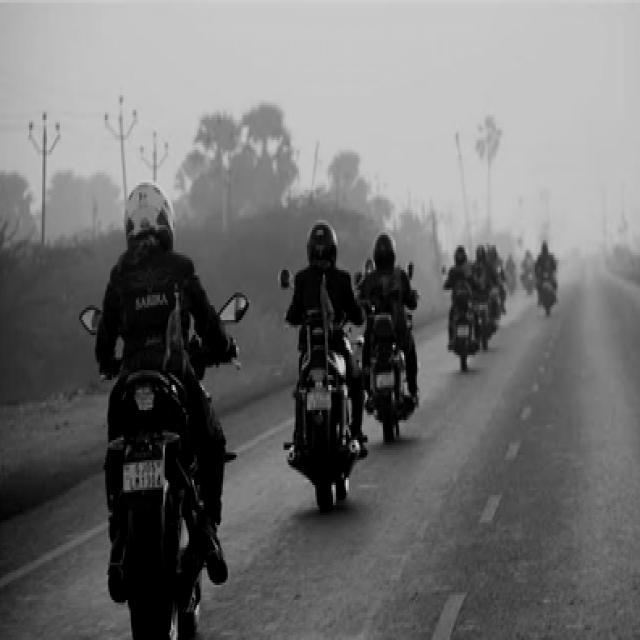Helmet: (116, 175, 181, 263), (300, 208, 340, 280), (368, 220, 399, 280), (449, 235, 469, 270)
